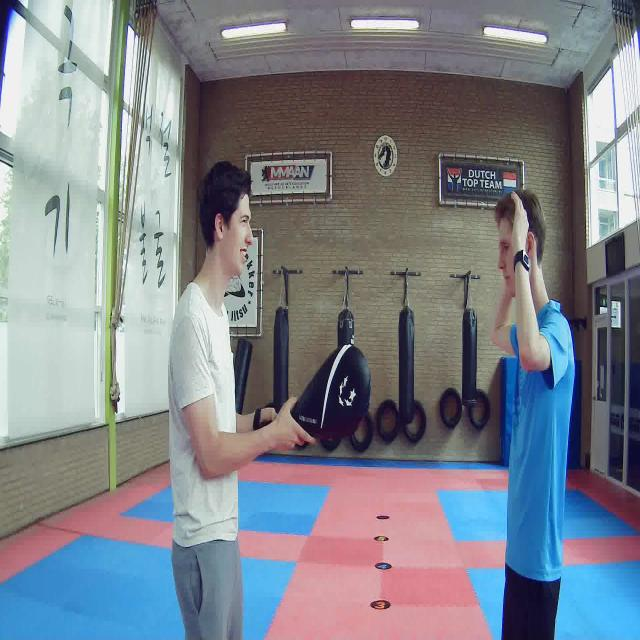paddle: (289, 344, 370, 437)
